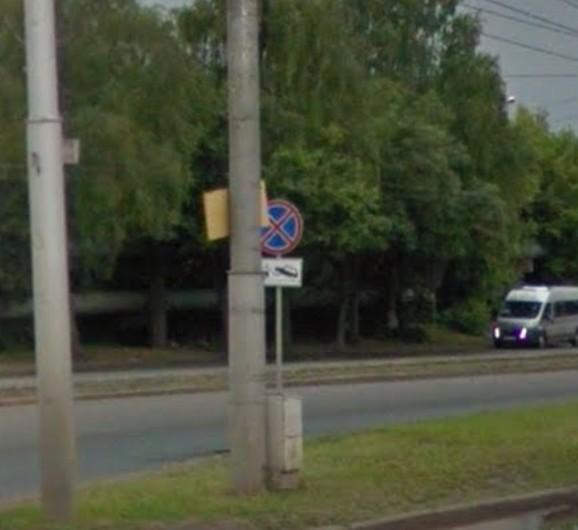No Parking: (255, 192, 308, 255)
